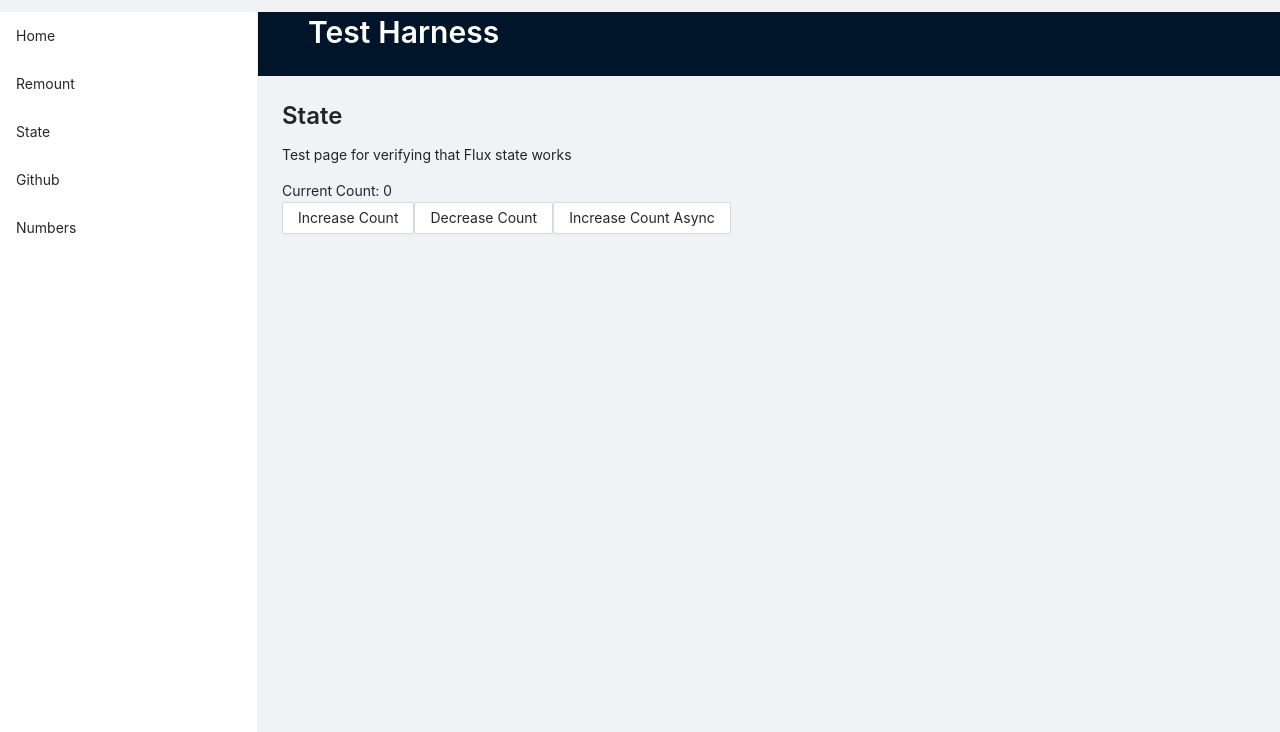
Scenario: State › Decreases the counter value
Expected: the text with class "cy-count" shows "0", [282, 182, 392, 199]
Click the button with class "cy-dec" at (485, 218), box [415, 202, 554, 234]
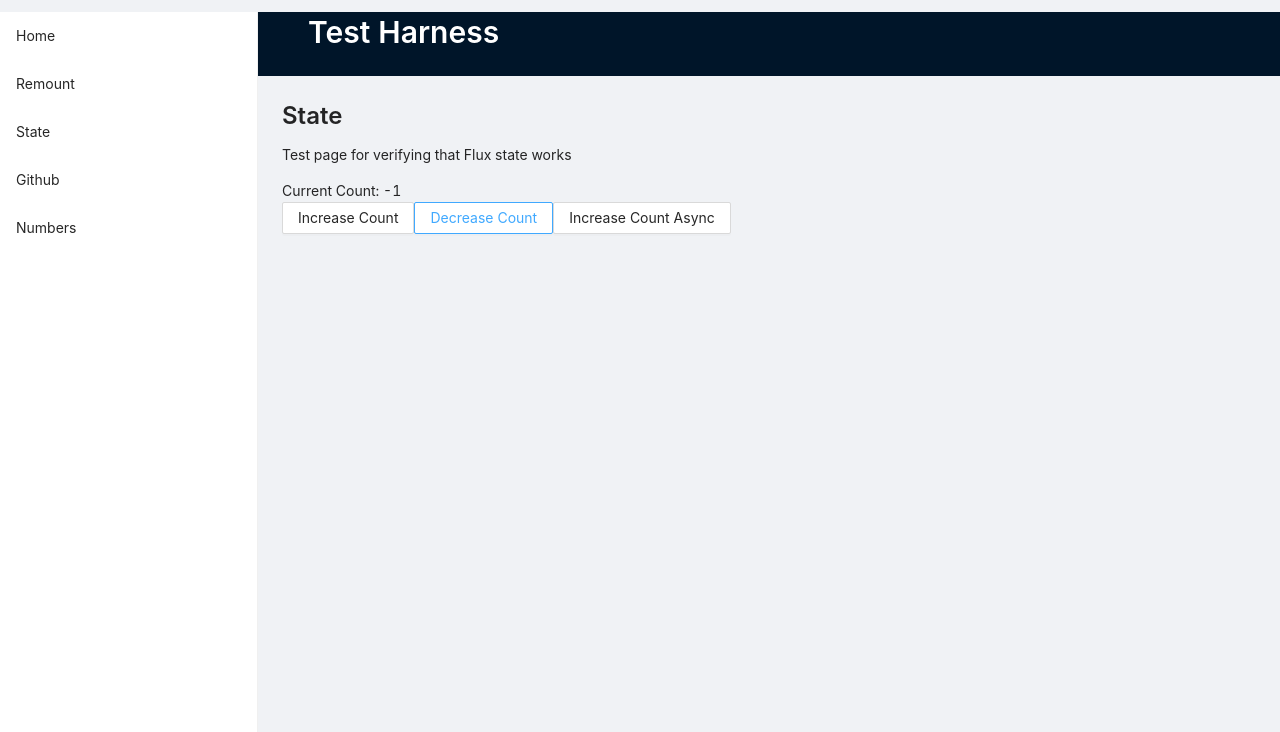
Now the text with class "cy-count" shows "-1", box [282, 182, 401, 199]
